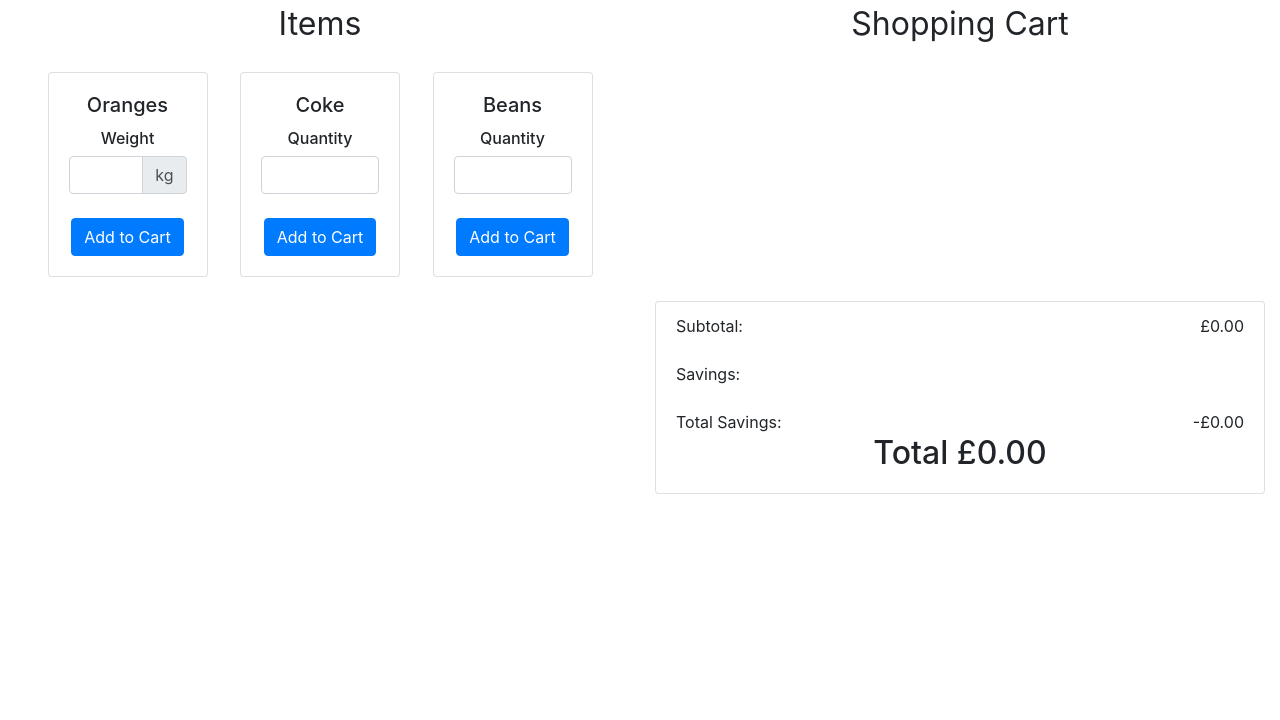
Test: Shopping Cart › should be able to add Beans to cart
Type "1" into the field named "Weight" below "Beans".
click(513, 175); type("1")  # box [454, 156, 572, 194]
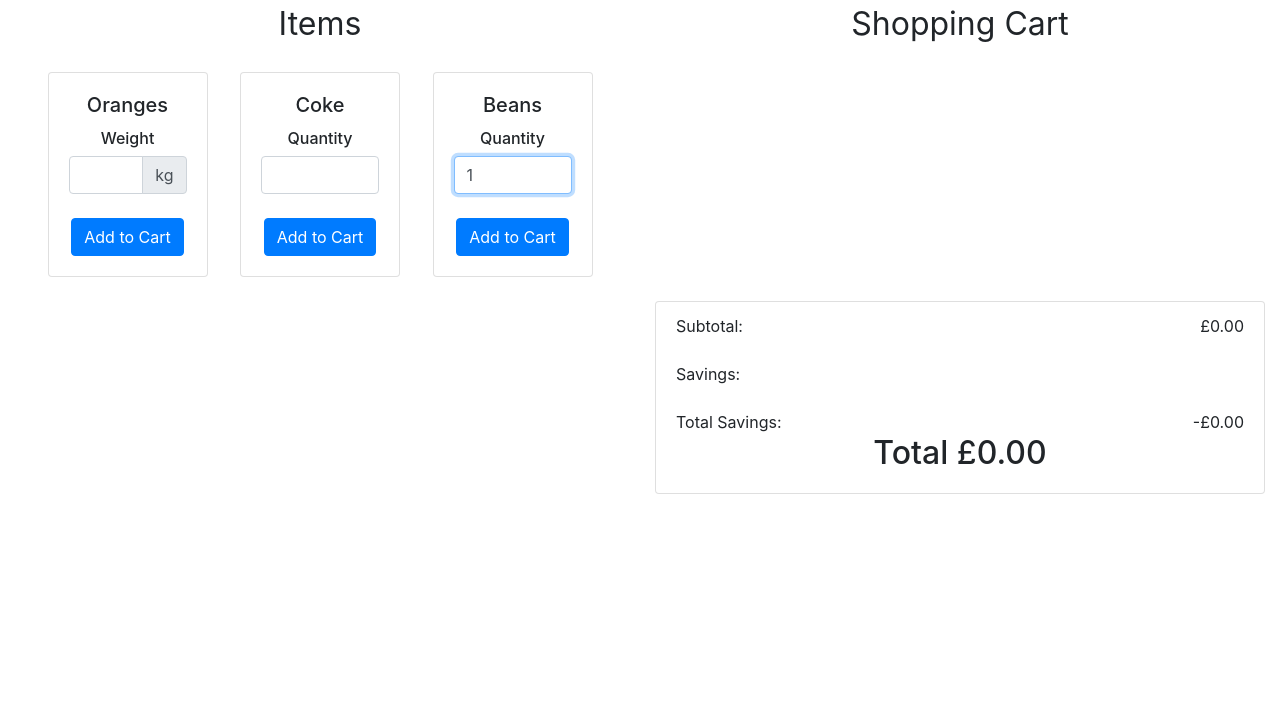
Click the button "Add to Cart" below "Beans".
click(513, 237)  # box [456, 218, 569, 256]
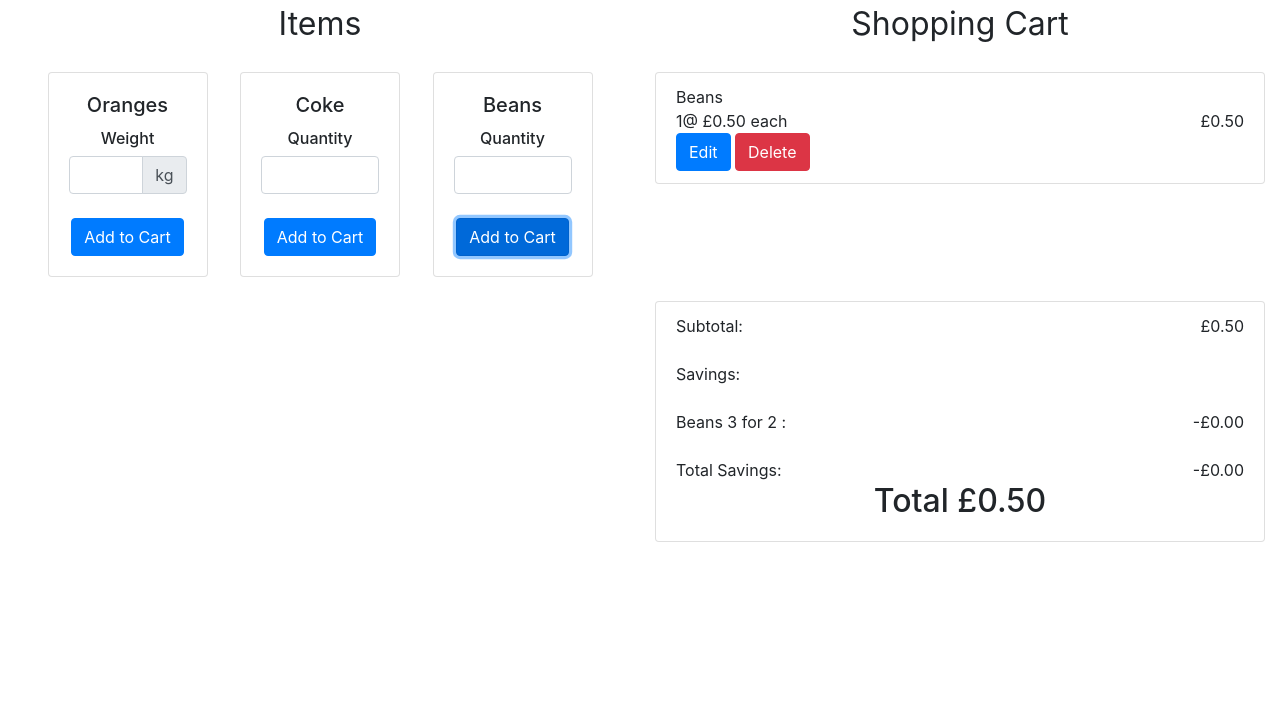
Check: the element with class "list-group-item" shows "Beans", box [676, 87, 723, 107]
Check: the text with class "list-group-item" reads "1@ £0.50 each", box [676, 109, 788, 133]
